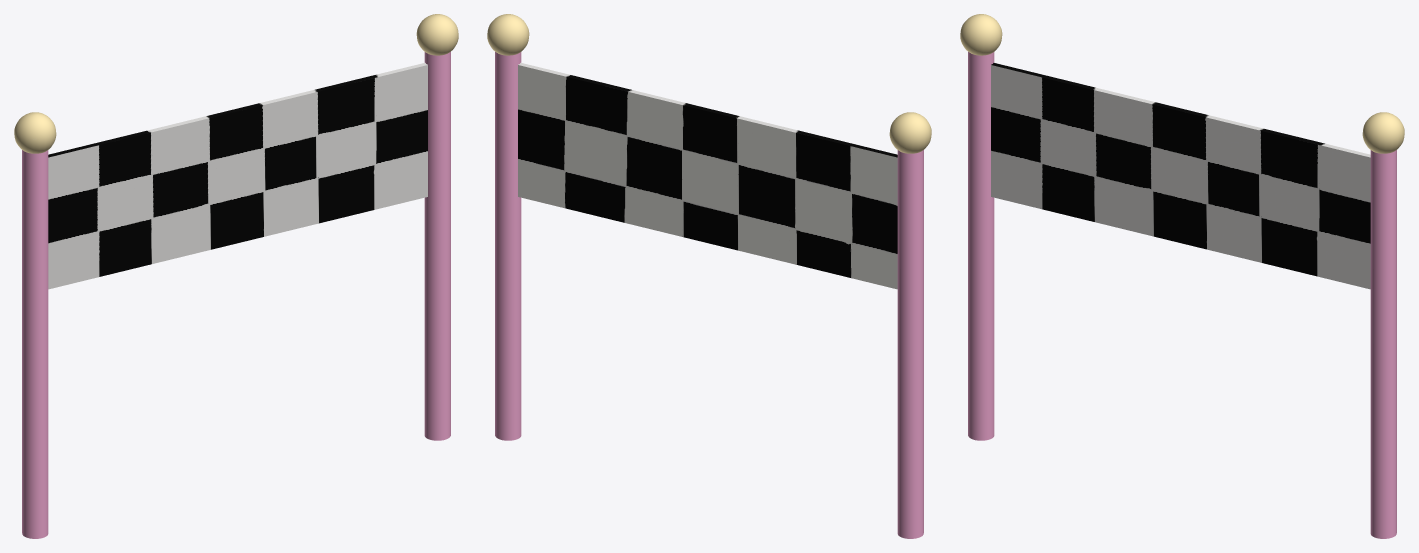
File: FinishSign.fbx
3 views of the same model, side by side, from view 1: azimuth 30°, elevation 25°; view 2: azimuth 150°, elevation 25°; view 3: azimuth 330°, elevation 25° (orthographic).
Visible parts, largest first — view 1: pCube1, pCylinder2, pCylinder1, pSphere2, pSphere1; view 2: pCube1, pCylinder2, pCylinder1, pSphere2, pSphere1; view 3: pCube1, pCylinder1, pCylinder2, pSphere1, pSphere2.
Boxes of the visible parts, x1,y1,x2,y2 form: pCube1: (48, 63, 427, 289); pCylinder2: (22, 150, 48, 538); pCylinder1: (424, 52, 450, 440); pSphere2: (14, 112, 56, 153); pSphere1: (416, 14, 458, 55); pCube1: (518, 63, 897, 289); pCylinder2: (897, 150, 923, 538); pCylinder1: (495, 52, 521, 440); pSphere2: (889, 112, 931, 153); pSphere1: (487, 14, 529, 55); pCube1: (991, 63, 1370, 289); pCylinder1: (1370, 150, 1396, 538); pCylinder2: (968, 52, 994, 440); pSphere1: (1362, 112, 1404, 153); pSphere2: (960, 14, 1002, 55).
Size of the model in its own units: 8.73 by 7.96 by 0.7287.
Materials: 1 (1 with a texture image).
